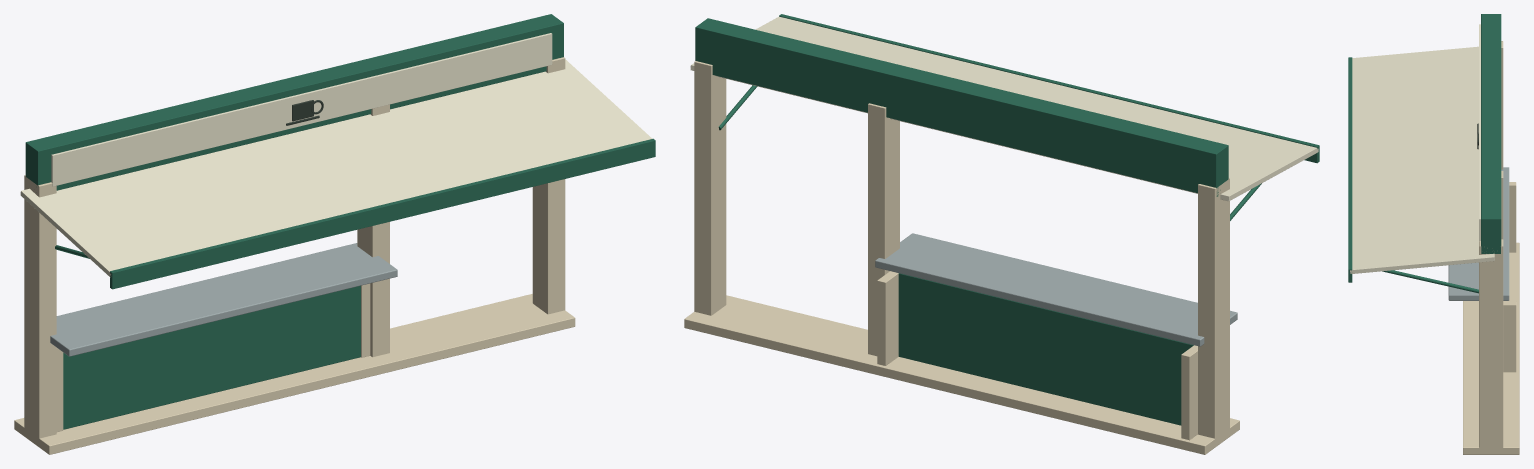
The model's file is source-edit.glb.
3 renders of one model, left to right at view 1: azimuth 30°, elevation 25°; view 2: azimuth 150°, elevation 25°; view 3: azimuth 270°, elevation 25°, orthographic. The views are drawn at different scales.
Visible parts, largest first — view 1: AWNING_Editable, COUNTER_Front, FASCIA_ReplaceableFace, FLOOR_Sill, COUNTER_Top, FASCIA_Support, AWNING_Valance, PIER_-2.9, PIER_2.9, PIER_0.9, COUNTER_Side_0.75, COUNTER_Side_-2.75; view 2: FASCIA_Support, COUNTER_Front, FLOOR_Sill, COUNTER_Top, AWNING_Editable, PIER_2.9, PIER_-2.9, PIER_0.9, AWNING_Valance, COUNTER_Side_0.75, COUNTER_Side_-2.75; view 3: AWNING_Editable, FASCIA_Support, PIER_2.9, FLOOR_Sill, COUNTER_Top, AWNING_Valance, COUNTER_Side_0.75, COUNTER_Side_-2.75, FASCIA_ReplaceableFace, AWNING_Bracket_2.8, PIER_-2.9, PIER_0.9.
Boxes of the visible parts, x1,y1,x2,y2 form: AWNING_Editable: [20, 59, 652, 277]; COUNTER_Front: [63, 285, 360, 429]; FASCIA_ReplaceableFace: [51, 33, 552, 186]; FLOOR_Sill: [14, 294, 575, 454]; COUNTER_Top: [50, 243, 397, 356]; FASCIA_Support: [25, 14, 563, 190]; AWNING_Valance: [110, 138, 655, 289]; PIER_-2.9: [24, 175, 56, 442]; PIER_2.9: [532, 57, 565, 314]; PIER_0.9: [357, 104, 389, 357]; COUNTER_Side_0.75: [361, 283, 370, 357]; COUNTER_Side_-2.75: [56, 348, 63, 431]; FASCIA_Support: [695, 18, 1228, 196]; COUNTER_Front: [898, 273, 1193, 425]; FLOOR_Sill: [684, 295, 1239, 454]; COUNTER_Top: [875, 233, 1237, 346]; AWNING_Editable: [690, 16, 1318, 201]; PIER_2.9: [694, 61, 726, 315]; PIER_-2.9: [1198, 178, 1229, 442]; PIER_0.9: [868, 103, 899, 356]; AWNING_Valance: [779, 14, 1319, 163]; COUNTER_Side_0.75: [877, 271, 898, 365]; COUNTER_Side_-2.75: [1181, 345, 1197, 440]; AWNING_Editable: [1350, 46, 1494, 273]; FASCIA_Support: [1481, 14, 1501, 253]; PIER_2.9: [1479, 239, 1503, 451]; FLOOR_Sill: [1463, 242, 1519, 454]; COUNTER_Top: [1448, 167, 1509, 300]; AWNING_Valance: [1348, 57, 1352, 282]; COUNTER_Side_0.75: [1503, 301, 1516, 372]; COUNTER_Side_-2.75: [1509, 182, 1516, 252]; FASCIA_ReplaceableFace: [1479, 24, 1480, 240]; AWNING_Bracket_2.8: [1382, 270, 1478, 293]; PIER_-2.9: [1501, 41, 1503, 169]; PIER_0.9: [1501, 171, 1503, 239].
Size of the model in its own units: 6.2 by 3.22 by 2.12.
